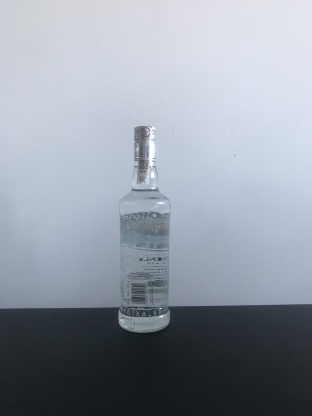nakretka: (131, 121, 158, 163)
